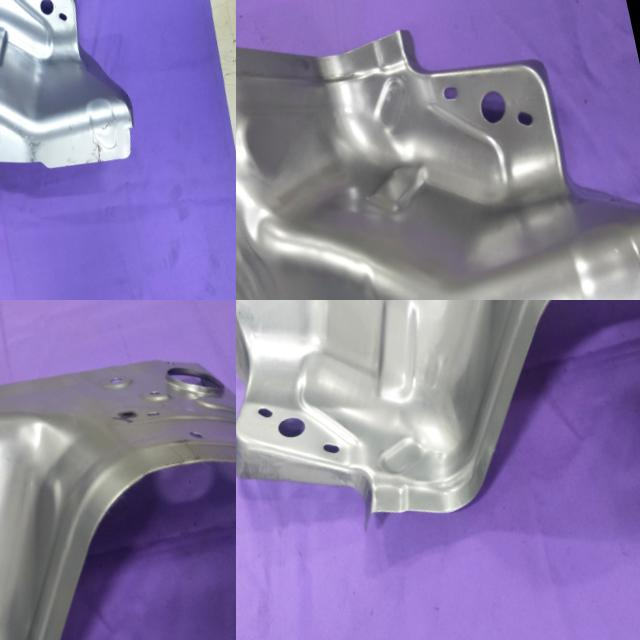Healthy: (236, 0, 640, 300), (236, 300, 640, 561), (0, 300, 236, 640)
rust: (77, 125, 116, 168)
